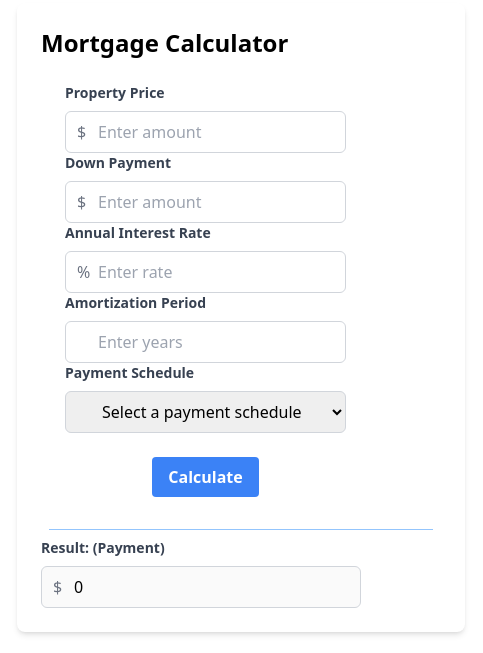
Mortgage › displays the calculated payment on successful form submission
Type "500000" into the number field with test id "propertyPrice" at (206, 132), box [65,111,346,153]
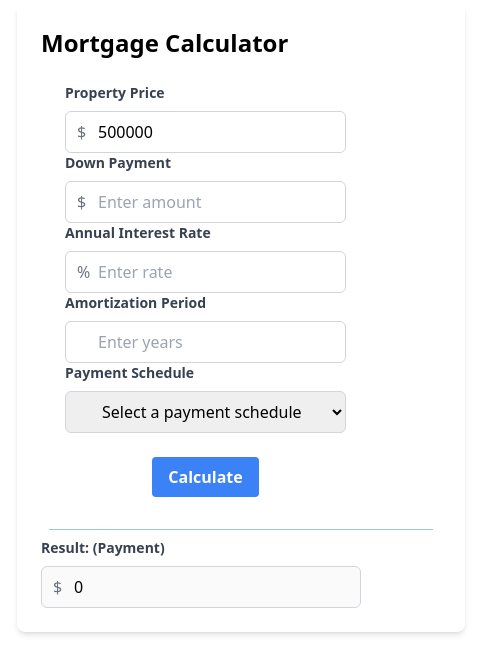
Type "100000" into the number field with test id "downPayment" at (206, 202), box [65,181,346,223]
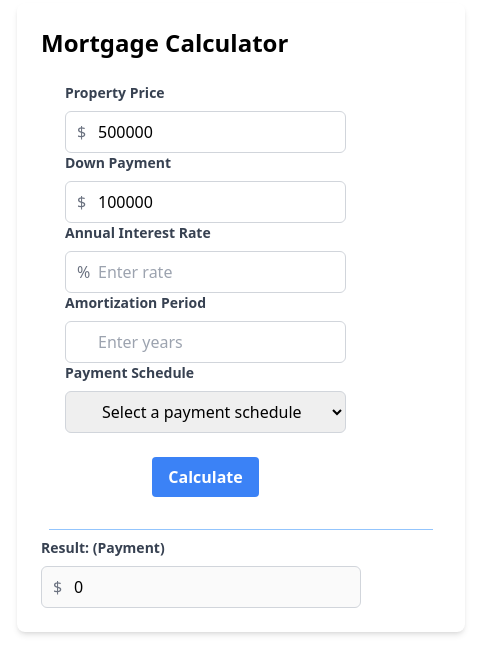
Type "35" into the number field with test id "annualInterestRate" at (206, 272), box [65,251,346,293]
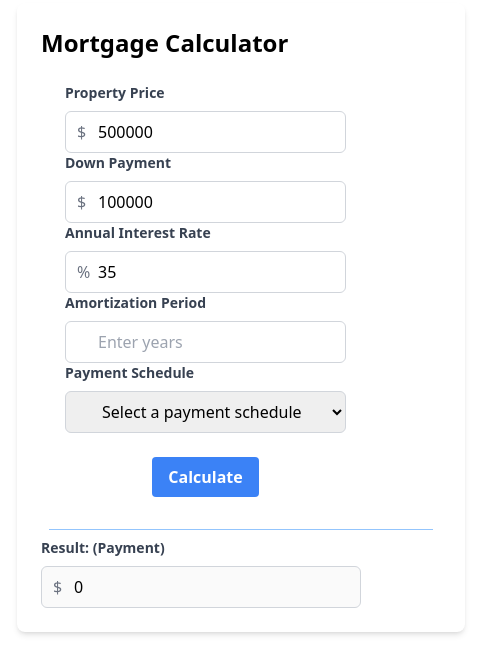
Type "25" into the number field with test id "amortizationPeriod" at (206, 342), box [65,321,346,363]
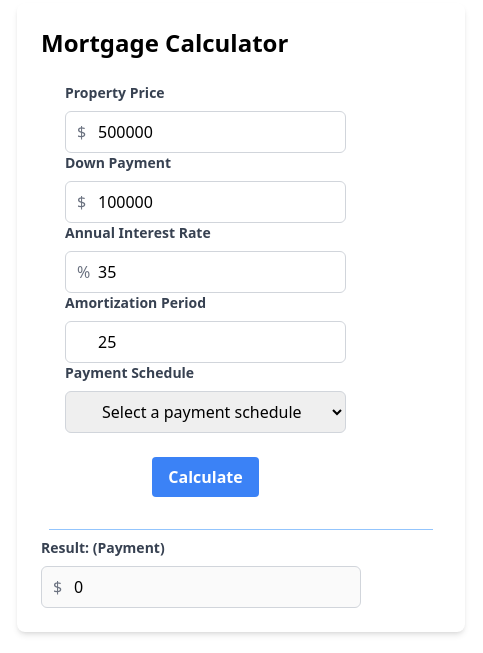
Select "Monthly" in the dropdown with test id "paymentSchedule" at (206, 412), box [65,391,346,433]
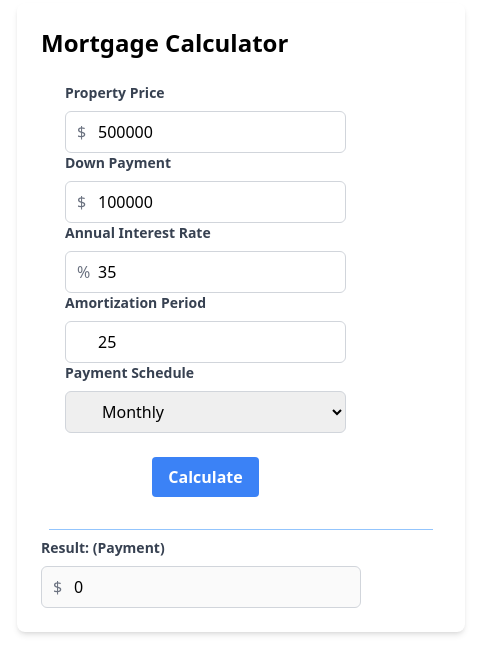
Click the button "Calculate" at (206, 477), box [152,457,259,497]
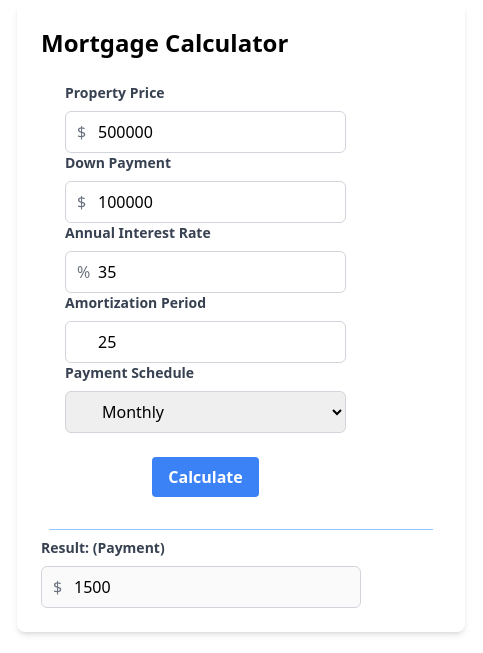
Now the field with test id "calculationResult" holds "1500", box [41,566,361,608]
